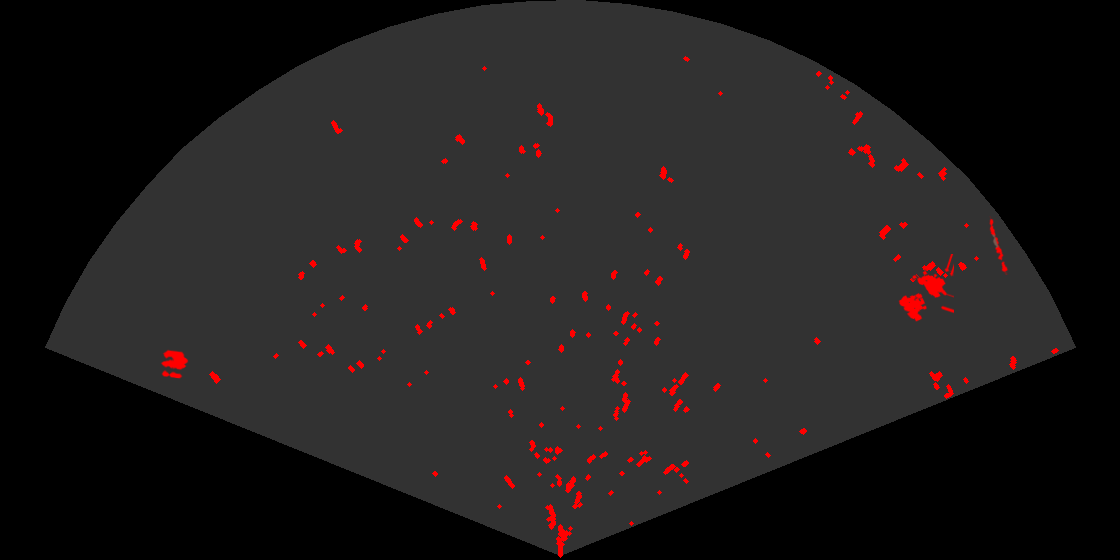ball: (159, 348, 190, 380)
cage: (897, 254, 954, 323)
chain: (988, 216, 1010, 275)
